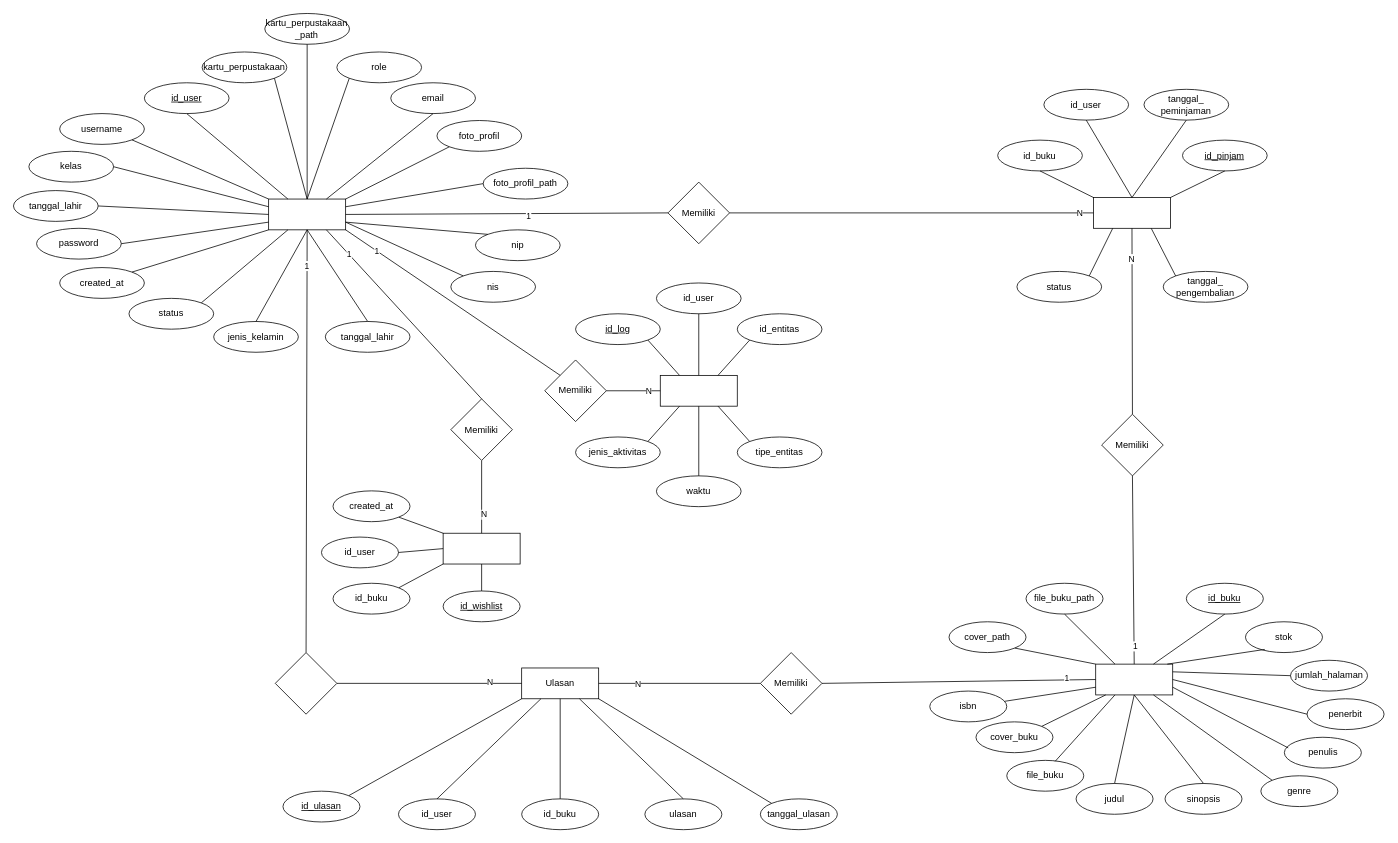
Some shapes in this 1398 by 843 pixel diagram are drawn without their labels. The box of each missing label's shape, as (x1, y1, x2, y2) in pixels:
Buku: (1095, 663, 1173, 695)
Log Aktivitas: (660, 375, 737, 406)
Membuat: (275, 652, 337, 714)
Peminjaman: (1093, 197, 1170, 228)
Users: (268, 198, 346, 230)
Wishlist: (442, 532, 520, 564)
